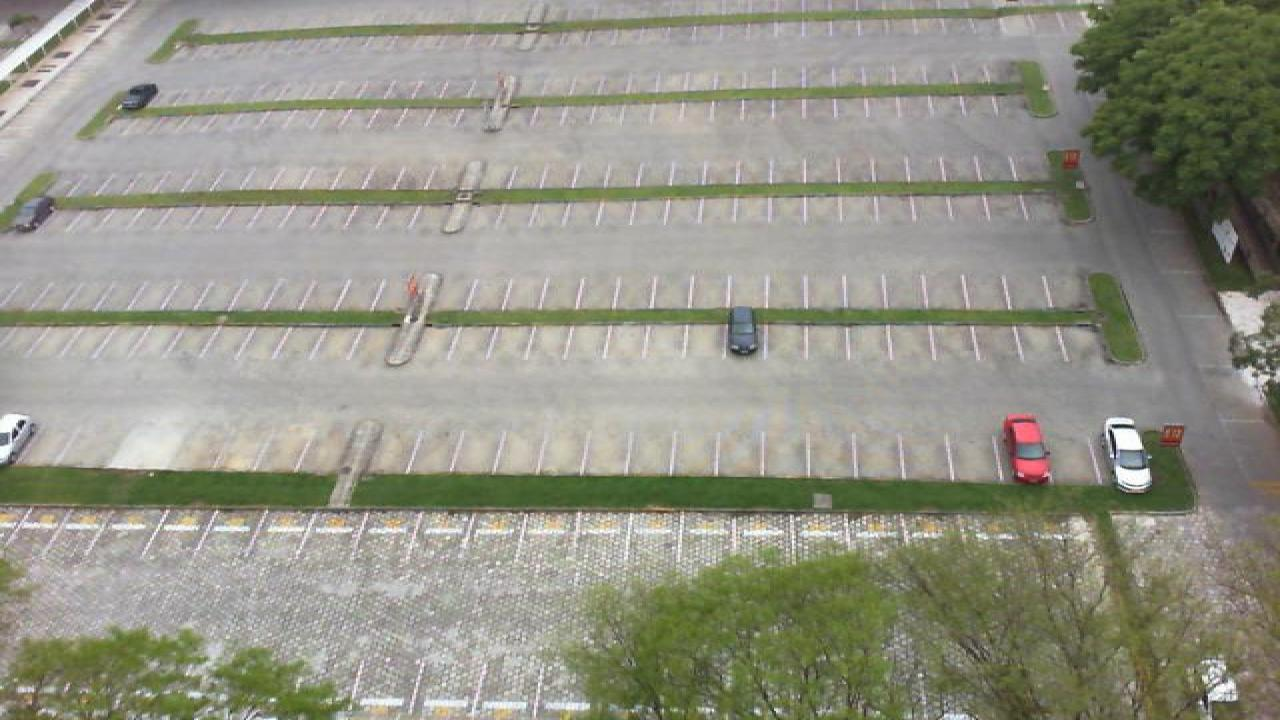Car: (1102, 416, 1154, 494), (1002, 414, 1054, 485), (0, 414, 36, 466), (726, 306, 758, 356), (12, 195, 54, 233), (118, 84, 158, 112)
